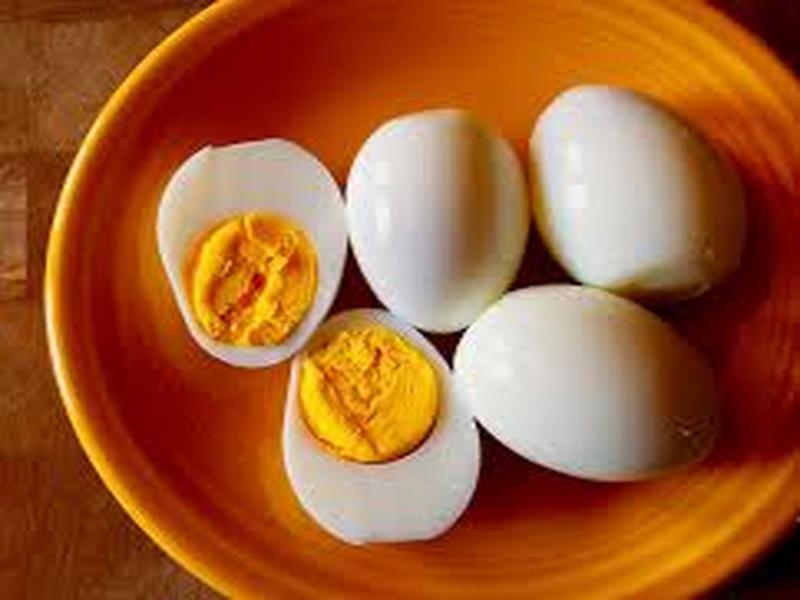egg: (101, 48, 758, 578)
